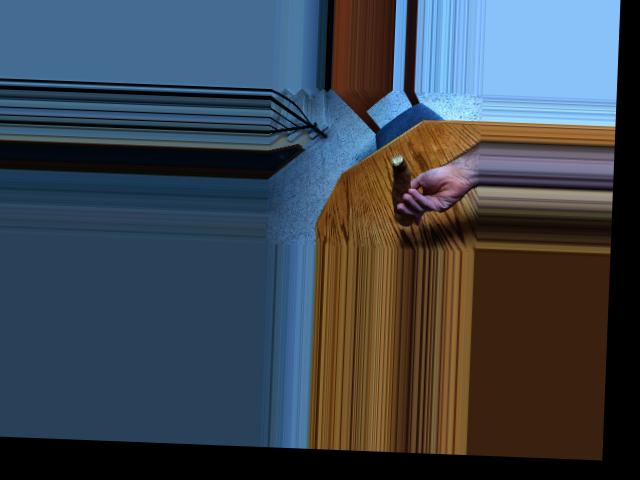sweet_potato: (389, 149, 414, 226)
